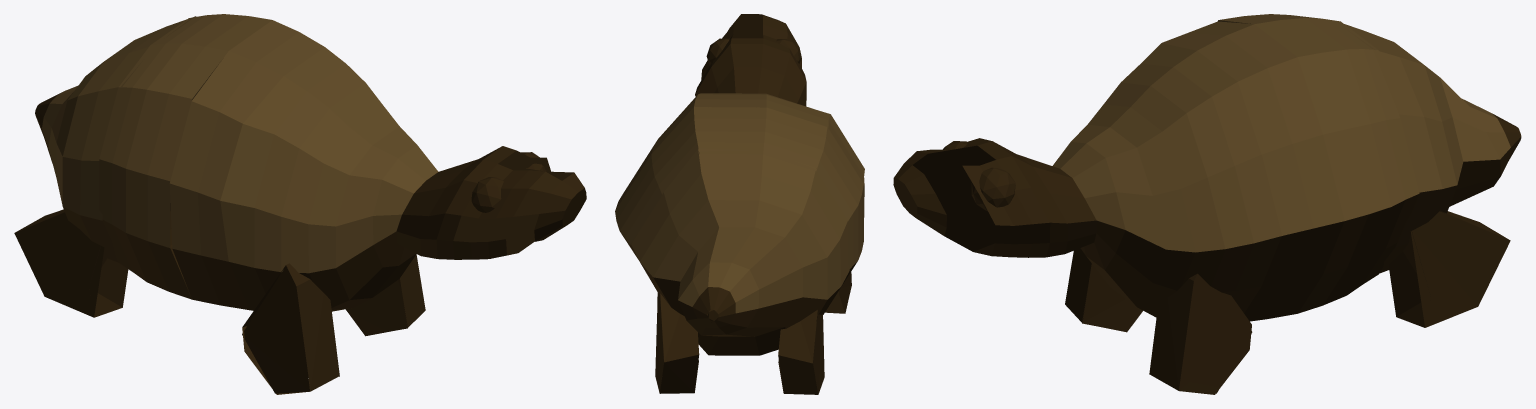
The model's file is forest turtle.fbx.
3 views of the same model, side by side, from view 1: azimuth 30°, elevation 25°; view 2: azimuth 150°, elevation 25°; view 3: azimuth 270°, elevation 25° (orthographic). The views are drawn at different scales.
Visible parts, largest first — view 1: Turtle; view 2: Turtle; view 3: Turtle.
Boxes of the visible parts, bbox=[...] form: Turtle: bbox=[14, 14, 586, 394]; Turtle: bbox=[615, 14, 864, 394]; Turtle: bbox=[893, 14, 1521, 394].
Bounding box in the file's own units: 210 × 171 × 325.
